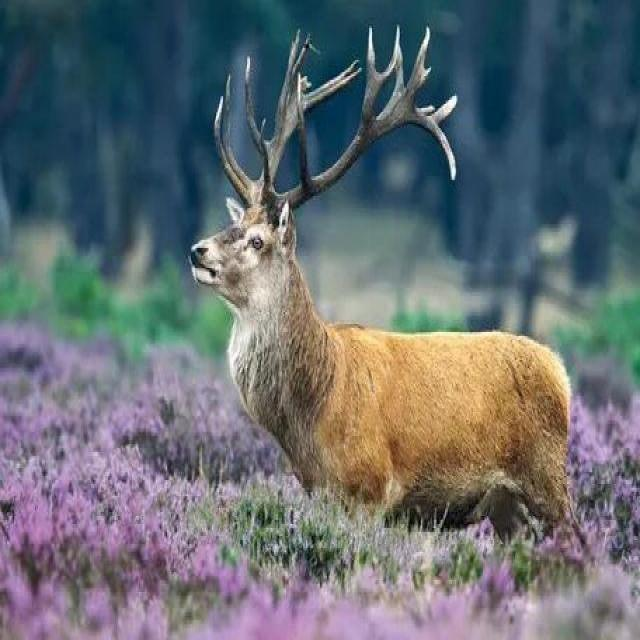deer: (136, 63, 596, 550)
